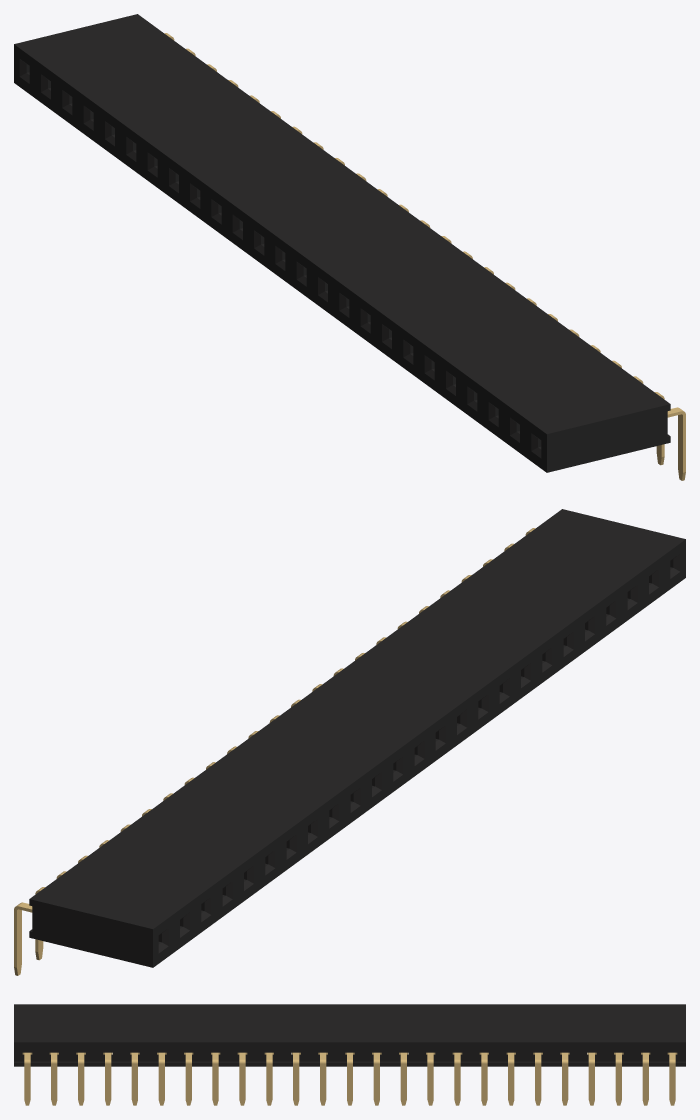
Rendered from kc-pinsocket_1x25_p2.54mm_horizontal.glb.
3 renders of one model, top to bottom at view 1: azimuth 30°, elevation 25°; view 2: azimuth 150°, elevation 25°; view 3: azimuth 270°, elevation 25°, orthographic. The views are drawn at different scales.
Parts seen in each view (by area): view 1: 0_0_0_0, 0.75_0.5_0.25_0.9; view 2: 0_0_0_0, 0.75_0.5_0.25_0.9; view 3: 0_0_0_0, 0.75_0.5_0.25_0.9.
Part boxes in pixels (left/top/right/bottom): 0_0_0_0: left=14, top=14, right=670, bottom=472; 0.75_0.5_0.25_0.9: left=164, top=33, right=685, bottom=480; 0_0_0_0: left=29, top=509, right=685, bottom=967; 0.75_0.5_0.25_0.9: left=14, top=528, right=535, bottom=975; 0_0_0_0: left=14, top=1004, right=685, bottom=1066; 0.75_0.5_0.25_0.9: left=22, top=1052, right=677, bottom=1105.
Bounding box in the file's own units: 1.01 × 0.584 × 6.35.
